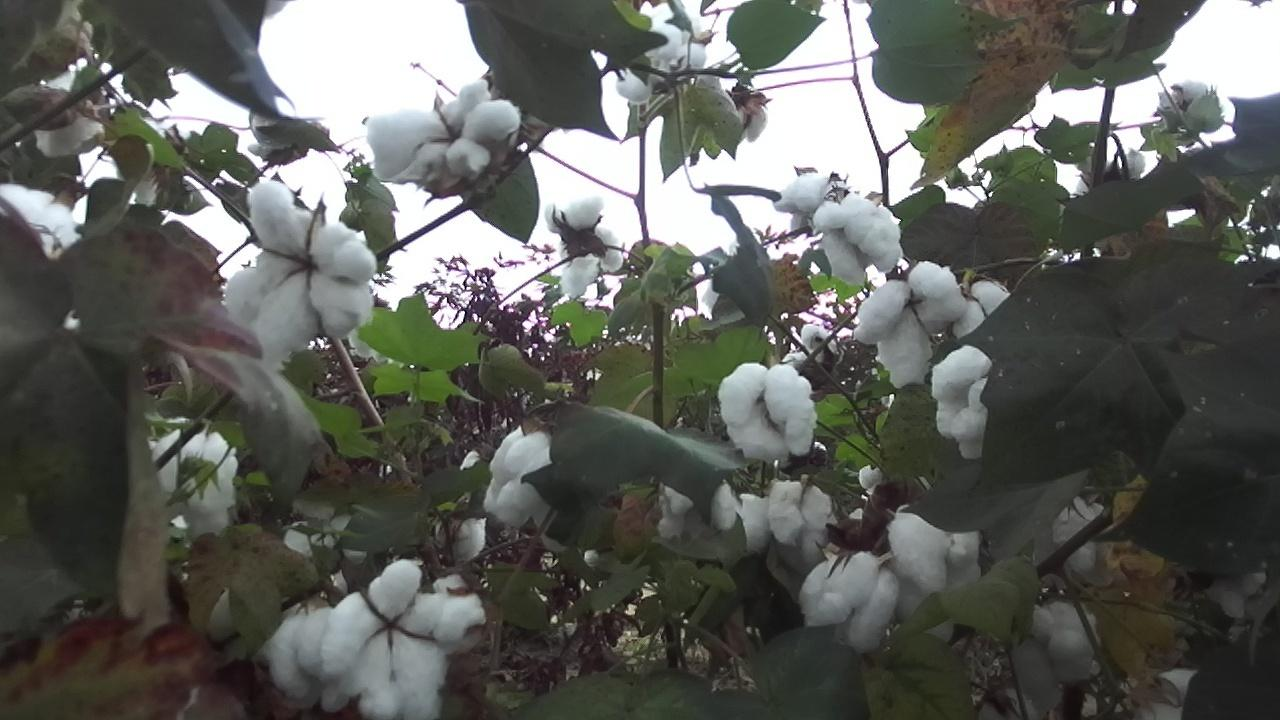cotton_ready: (224, 179, 377, 371), (327, 560, 485, 720), (367, 82, 520, 186), (886, 509, 987, 650), (856, 262, 965, 389), (483, 424, 567, 558), (1009, 600, 1105, 714), (797, 550, 900, 650), (718, 362, 819, 463), (151, 424, 239, 534), (544, 192, 623, 302), (813, 197, 902, 290), (177, 547, 264, 640), (284, 510, 372, 598), (741, 475, 834, 555), (616, 24, 707, 102), (934, 347, 994, 463), (1046, 495, 1125, 578), (267, 600, 331, 699), (1077, 667, 1195, 720), (0, 183, 79, 260), (657, 474, 739, 546), (40, 78, 105, 157), (442, 449, 487, 559), (1077, 144, 1144, 202), (776, 172, 832, 239), (954, 284, 1015, 341), (1156, 79, 1214, 123), (730, 102, 767, 144)
